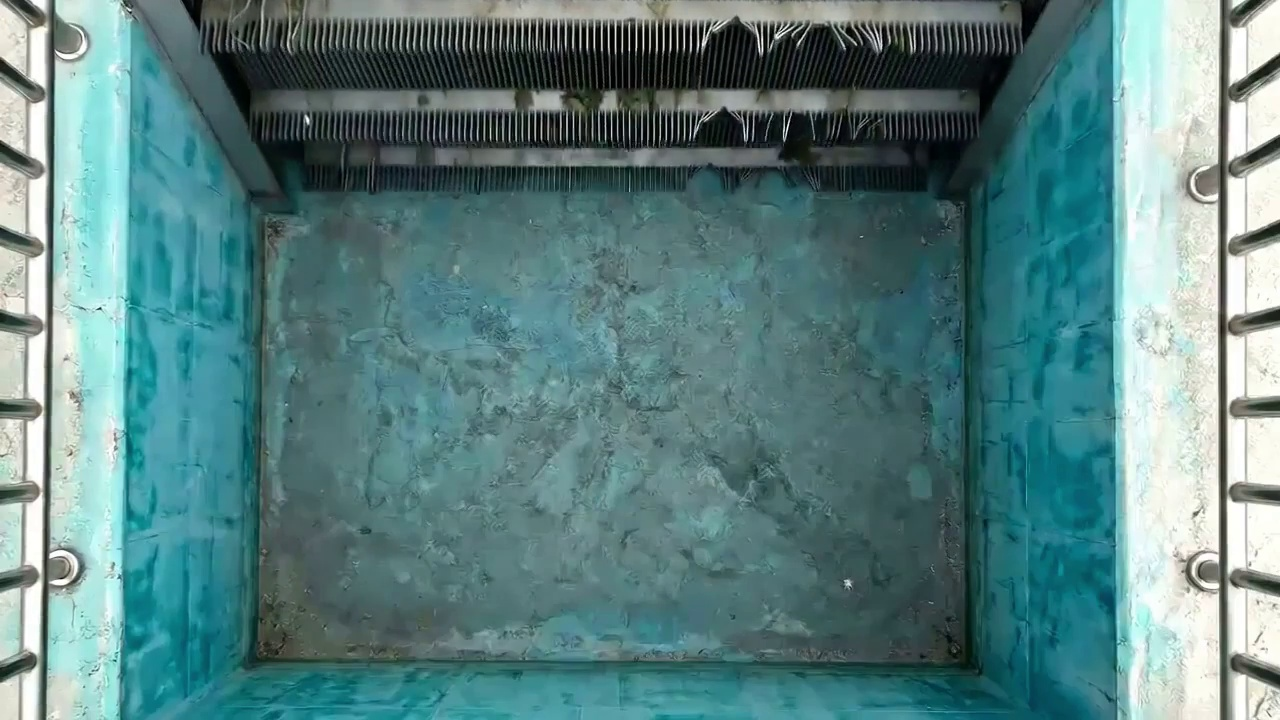damage: (690, 14, 933, 60), (685, 102, 890, 149), (676, 159, 829, 198), (199, 18, 337, 56)
